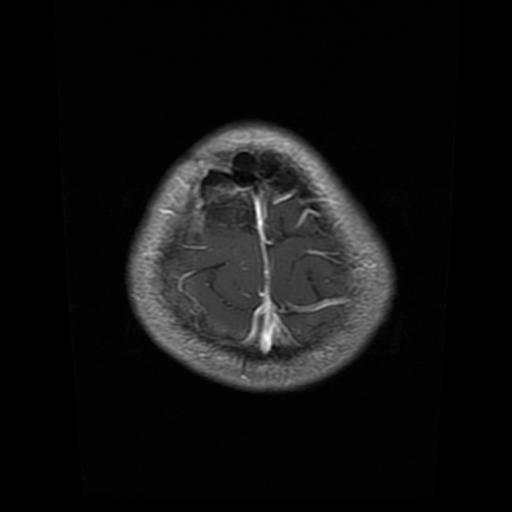Gliomia_tumour: (200, 151, 303, 233)
